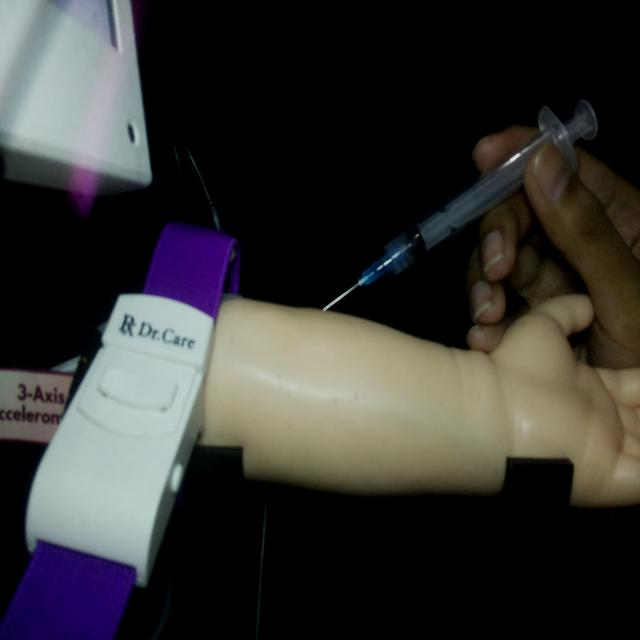28 degrees: (321, 94, 599, 314)
